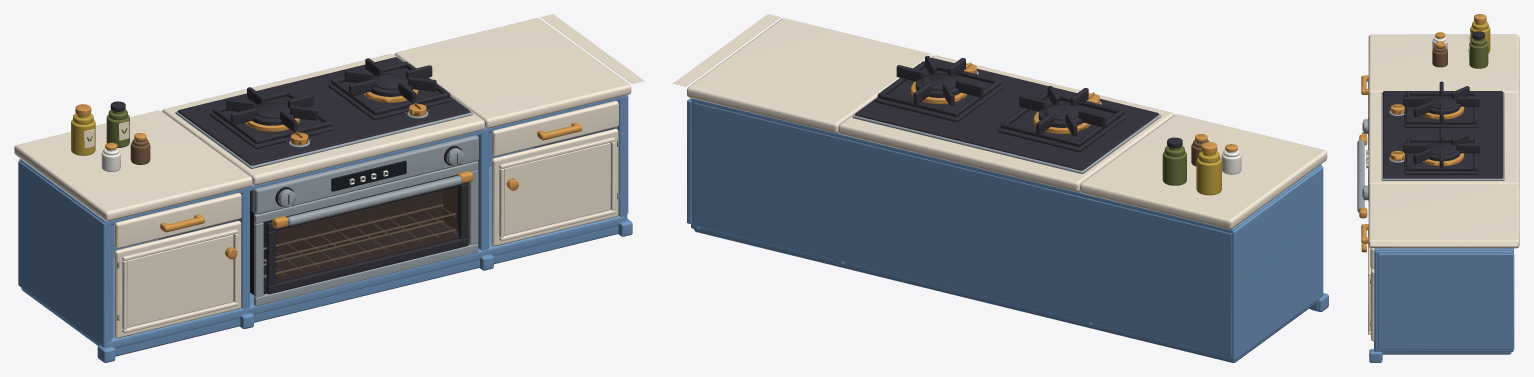
The model's file is stove.glb.
The picture shows the model from 3 angles, left to right: view 1: azimuth 30°, elevation 25°; view 2: azimuth 150°, elevation 25°; view 3: azimuth 270°, elevation 25°; orthographic projection. The views are drawn at different scales.
Visible parts, largest first — view 1: 灶台静态总成, 烤箱烟色玻璃, 转角接缝台面; view 2: 灶台静态总成, 转角接缝台面; view 3: 灶台静态总成, 转角接缝台面.
Boxes of the visible parts, x1,y1,x2,y2 form: 灶台静态总成: (14,18,632,362); 烤箱烟色玻璃: (276,187,458,281); 转角接缝台面: (541,14,644,83); 灶台静态总成: (687,18,1328,362); 转角接缝台面: (673,14,780,86); 灶台静态总成: (1357,14,1519,362); 转角接缝台面: (1370,241,1517,246).
Size of the model in its own units: 3.34 by 1.15 by 1.07.
3 materials, 1 textured.
